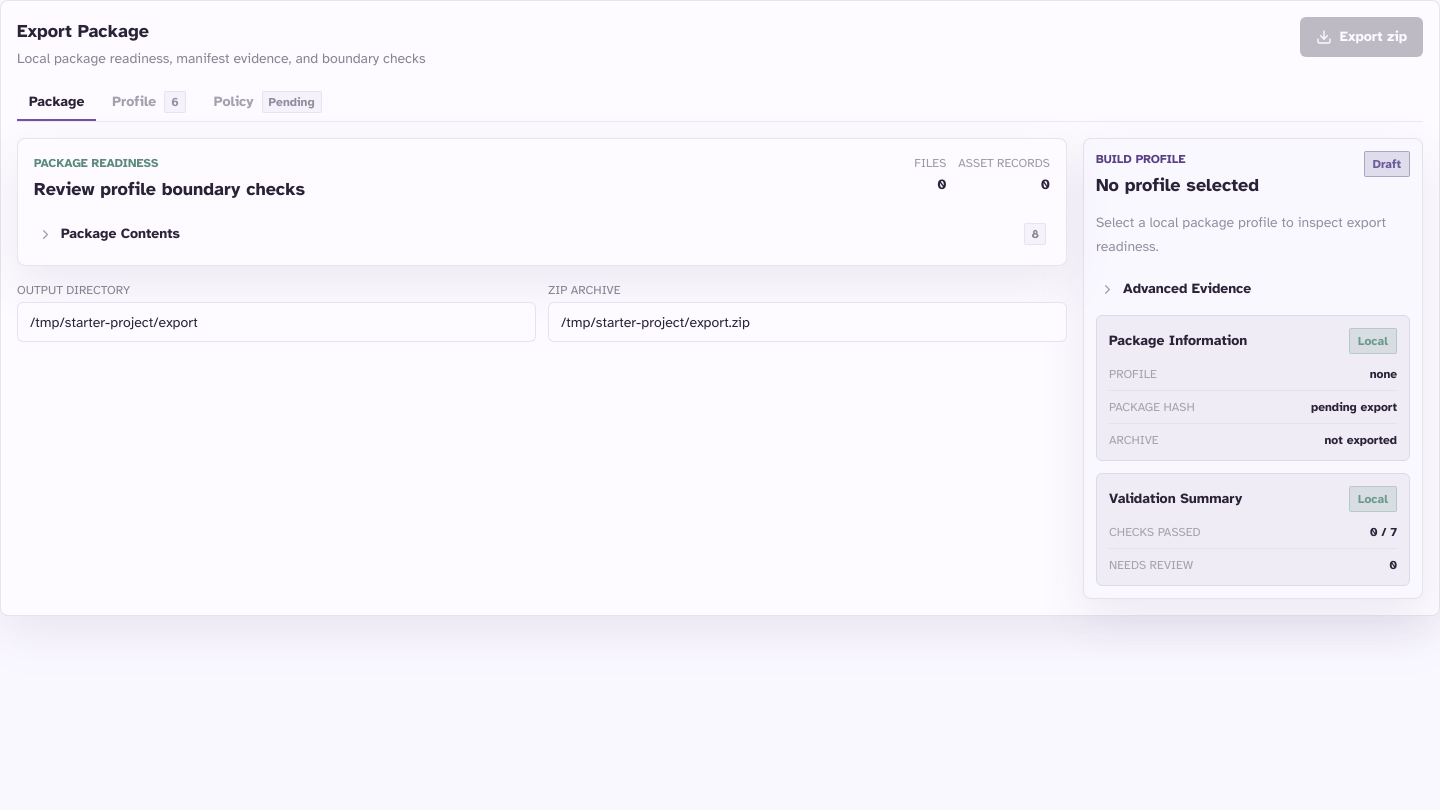
Scenario: ExportView › shows packageItems list collapsed by default and expands on click
Click the button "Package Contents 8" at (121,234), box [34,219,1050,249]
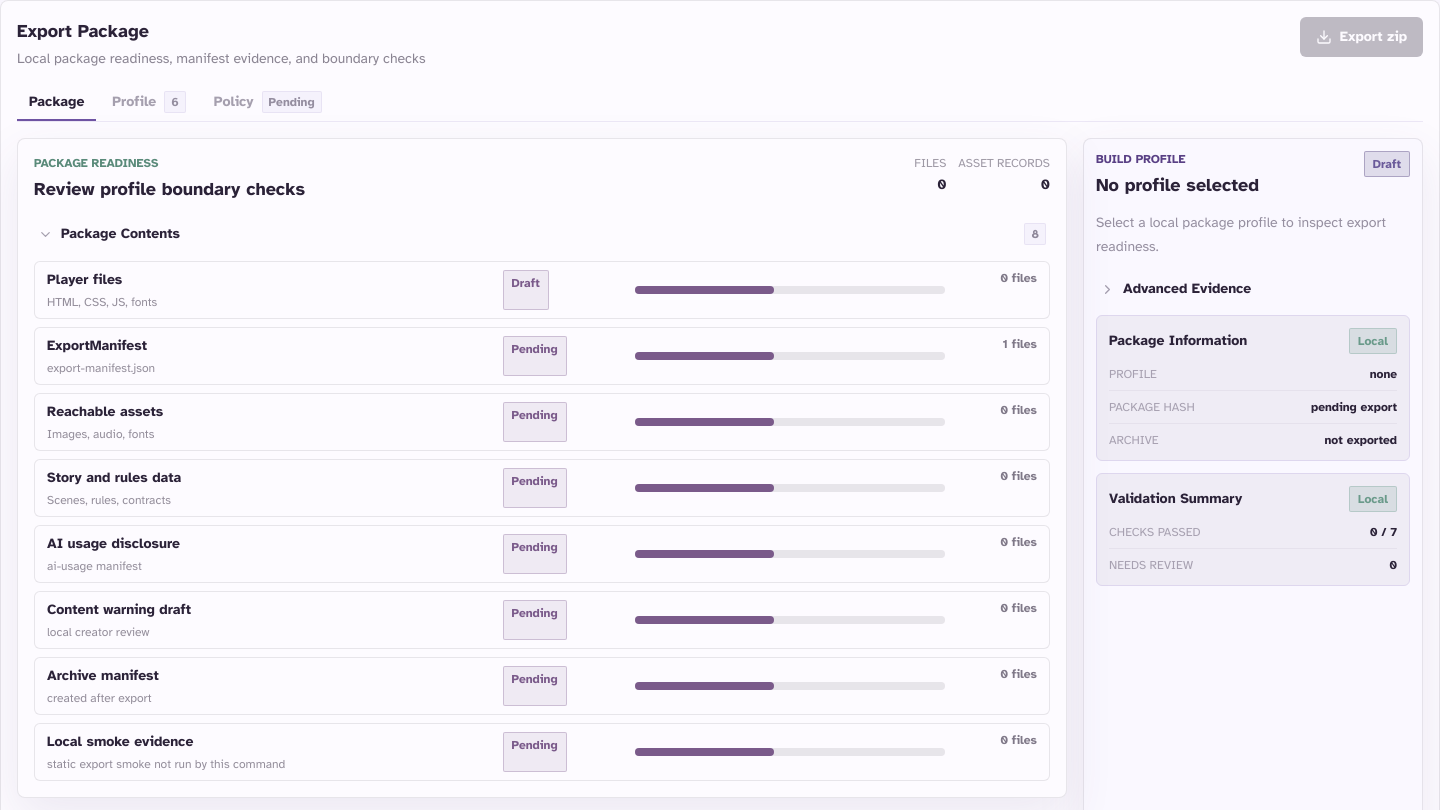
Expected: the text "Player files" is shown, [47,271,122,288]
Expected: the text "ExportManifest" is shown, [47,337,147,354]
